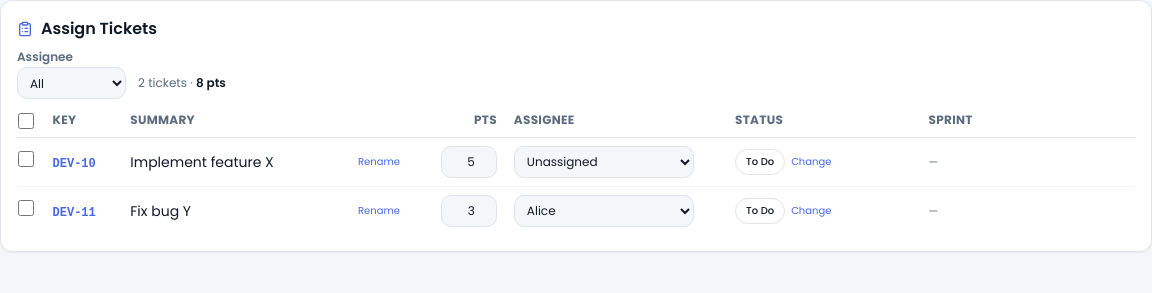
AssignmentList — v1.69 (ADR-080) rename › reverts the input and shows an inline error when the write fails
Expected: the text "Implement feature X" is shown, [130,152,274,172]
Click the button with aria-label "Rename DEV-10": (379, 162) [358,152,400,172]
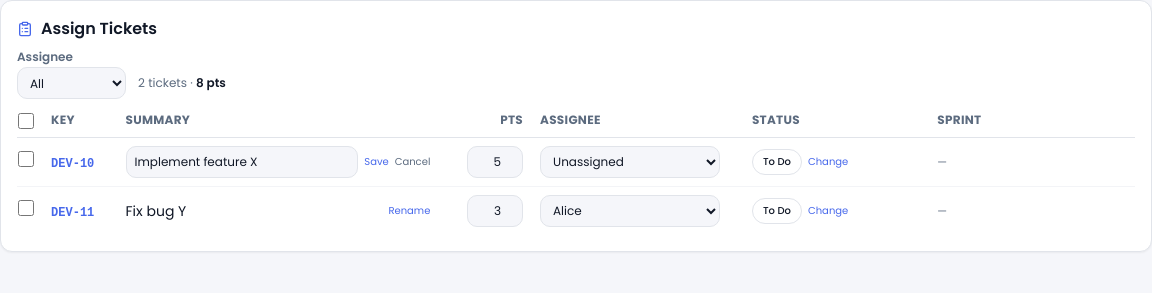
Replace the text in the field named "New summary for DEV-10" with "New broken summary": (242, 162) [126,146,358,178]
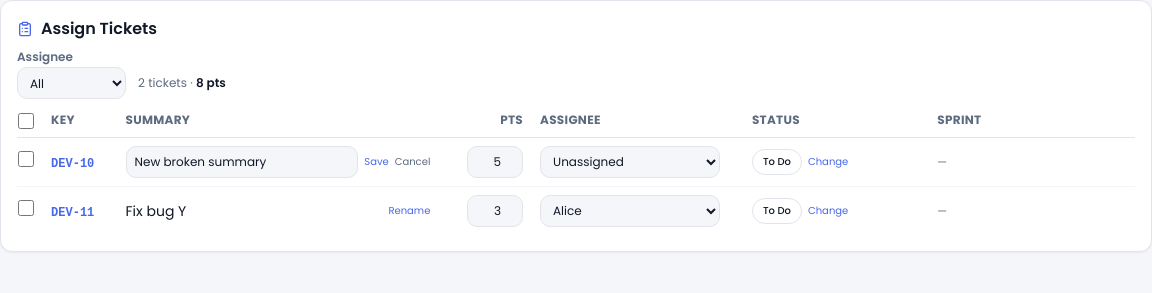
Press Enter in the field named "New summary for DEV-10", box [126,146,358,178]
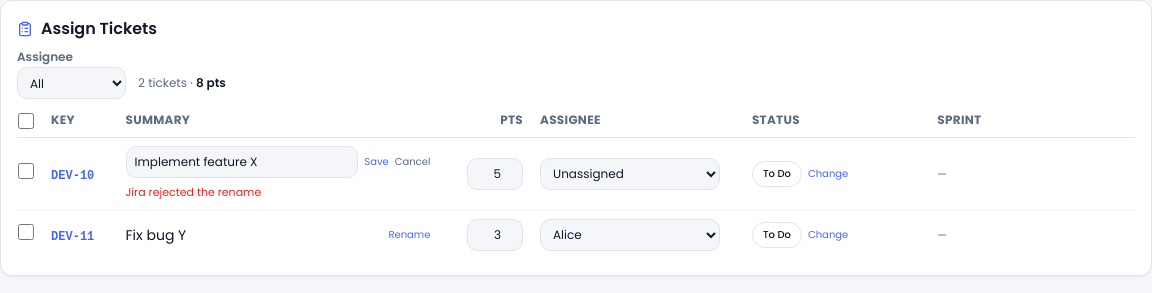
Now the text "Jira rejected the rename" is shown, box [126,184,261,200]
Now the field named "New summary for DEV-10" holds "Implement feature X", box [126,146,358,178]
